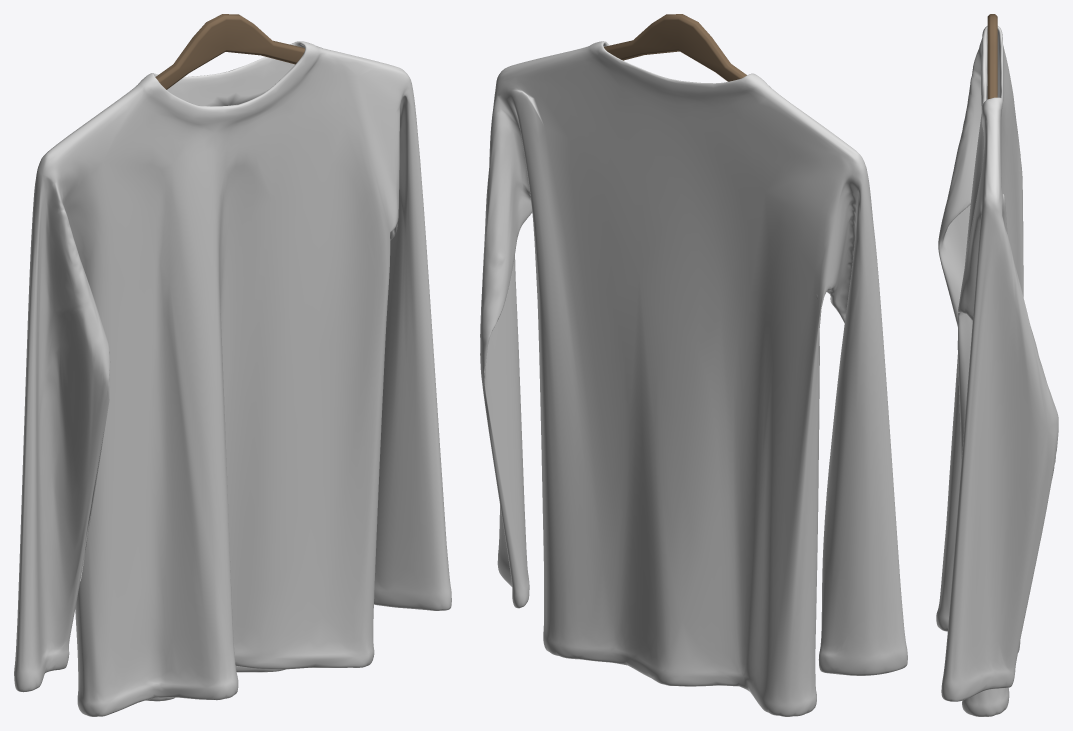
File: long-sleeve.glb
3 views of the same model, side by side, from view 1: azimuth 30°, elevation 25°; view 2: azimuth 150°, elevation 25°; view 3: azimuth 270°, elevation 25° (orthographic). The views are drawn at different scales.
Parts seen in each view (by area): view 1: GarmentFabric, HangerShoulders; view 2: GarmentFabric, HangerShoulders; view 3: GarmentFabric, HangerShoulders.
Boxes of the visible parts, box(x1,y1,x2,y2) form: GarmentFabric: box(14, 41, 451, 716); HangerShoulders: box(155, 14, 304, 89); GarmentFabric: box(480, 41, 907, 716); HangerShoulders: box(604, 14, 746, 81); GarmentFabric: box(936, 26, 1058, 716); HangerShoulders: box(987, 14, 997, 99).
Size of the model in its own units: 1.85 by 2.81 by 0.4908.
